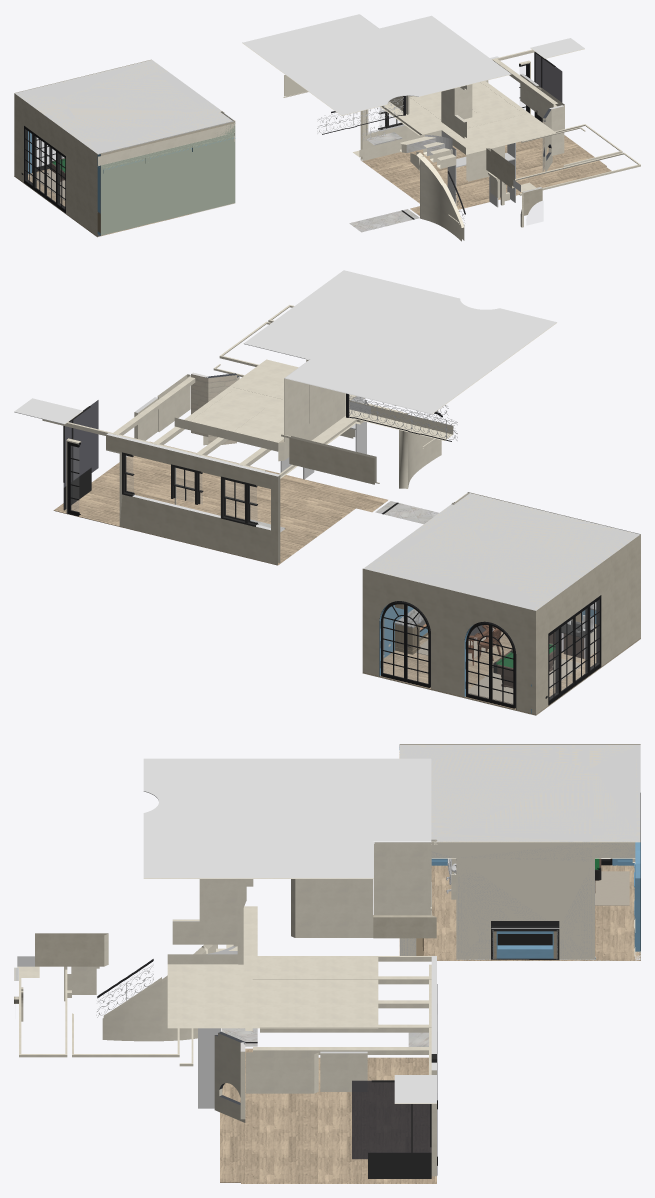
Rendered from game-room-7fff42dc6468.glb.
3 renders of one model, top to bottom at view 1: azimuth 30°, elevation 25°; view 2: azimuth 150°, elevation 25°; view 3: azimuth 270°, elevation 25°, orthographic. The views are drawn at different scales.
Visible parts, largest first — view 1: game-room-look-9d91b47435c6fb33, game-room-4a969f5cc1ae3dfe, game-room-30c5953c9ad73e5d, game-room-look-3b0077416469e01b, game-room-look-2575515a05775d9e, game-room-039192b0560cfac3, game-room-50d54560d247b537, game-room-look-8c6a7019fd0063e7, game-room-2575515a05775d9e, game-room-f4800b31bfeb29e4, game-room-look-bfb9fa537cd11d1d, game-room-look-cbd4bf73d9724a66 (+20 smaller); view 2: game-room-look-9d91b47435c6fb33, game-room-4a969f5cc1ae3dfe, game-room-look-3b0077416469e01b, game-room-969b861f9850351e, game-room-look-bfb9fa537cd11d1d, game-room-039192b0560cfac3, game-room-look-2575515a05775d9e, game-room-50d54560d247b537, game-room-3b0077416469e01b, game-room-look-245f595ae2832e16, game-room-ca241f91fd698c40, game-room-ebdc05650cf31826 (+24 smaller); view 3: game-room-look-9d91b47435c6fb33, game-room-4a969f5cc1ae3dfe, game-room-look-3b0077416469e01b, game-room-3e6709f91b43c3bf, game-room-look-2575515a05775d9e, game-room-50d54560d247b537, game-room-3b0077416469e01b, game-room-look-cbd4bf73d9724a66, game-room-look-69af8f587252f9fa, game-room-look-32b959c9aa406288, game-room-look-8c6a7019fd0063e7, game-room-look-c51ecd664a3b22a3 (+22 smaller).
Part boxes in pixels (left/top/right/bottom): game-room-look-9d91b47435c6fb33: left=242, top=14, right=511, bottom=115; game-room-4a969f5cc1ae3dfe: left=14, top=60, right=233, bottom=154; game-room-30c5953c9ad73e5d: left=100, top=122, right=235, bottom=235; game-room-look-3b0077416469e01b: left=361, top=135, right=611, bottom=215; game-room-look-2575515a05775d9e: left=353, top=81, right=555, bottom=157; game-room-039192b0560cfac3: left=14, top=94, right=100, bottom=236; game-room-50d54560d247b537: left=14, top=59, right=233, bottom=154; game-room-look-8c6a7019fd0063e7: left=410, top=151, right=464, bottom=241; game-room-2575515a05775d9e: left=98, top=123, right=235, bottom=165; game-room-f4800b31bfeb29e4: left=24, top=126, right=65, bottom=213; game-room-look-bfb9fa537cd11d1d: left=360, top=56, right=498, bottom=160; game-room-look-cbd4bf73d9724a66: left=535, top=53, right=562, bottom=102; game-room-look-9d91b47435c6fb33: left=243, top=270, right=556, bottom=414; game-room-4a969f5cc1ae3dfe: left=362, top=493, right=640, bottom=611; game-room-look-3b0077416469e01b: left=53, top=441, right=387, bottom=565; game-room-969b861f9850351e: left=362, top=569, right=531, bottom=713; game-room-look-bfb9fa537cd11d1d: left=106, top=433, right=280, bottom=564; game-room-039192b0560cfac3: left=532, top=535, right=640, bottom=714; game-room-look-2575515a05775d9e: left=174, top=359, right=453, bottom=451; game-room-50d54560d247b537: left=363, top=492, right=640, bottom=611; game-room-3b0077416469e01b: left=362, top=628, right=640, bottom=714; game-room-look-245f595ae2832e16: left=289, top=436, right=376, bottom=484; game-room-ca241f91fd698c40: left=404, top=603, right=429, bottom=687; game-room-ebdc05650cf31826: left=490, top=624, right=514, bottom=708; game-room-look-9d91b47435c6fb33: left=143, top=758, right=431, bottom=878; game-room-4a969f5cc1ae3dfe: left=400, top=744, right=640, bottom=842; game-room-look-3b0077416469e01b: left=220, top=1048, right=436, bottom=1183; game-room-3e6709f91b43c3bf: left=400, top=842, right=635, bottom=959; game-room-look-2575515a05775d9e: left=167, top=906, right=378, bottom=1028; game-room-50d54560d247b537: left=400, top=744, right=640, bottom=841; game-room-3b0077416469e01b: left=399, top=865, right=640, bottom=960; game-room-look-cbd4bf73d9724a66: left=352, top=1080, right=431, bottom=1159; game-room-look-69af8f587252f9fa: left=291, top=879, right=373, bottom=937; game-room-look-32b959c9aa406288: left=374, top=842, right=431, bottom=915; game-room-look-8c6a7019fd0063e7: left=102, top=944, right=217, bottom=1041; game-room-look-c51ecd664a3b22a3: left=172, top=879, right=237, bottom=944.
Size of the model in its own units: 21.68 by 6.36 by 16.78.
Materials: 72 (18 with a texture image).
